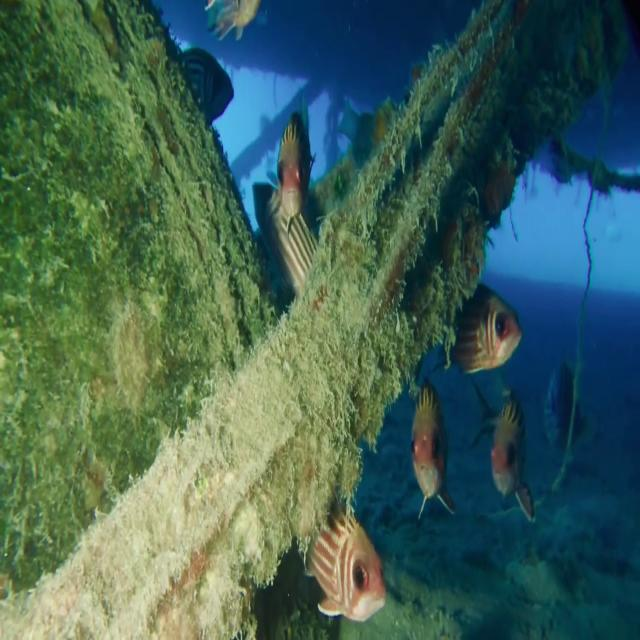Asker Baligi: (303, 497, 387, 624)
